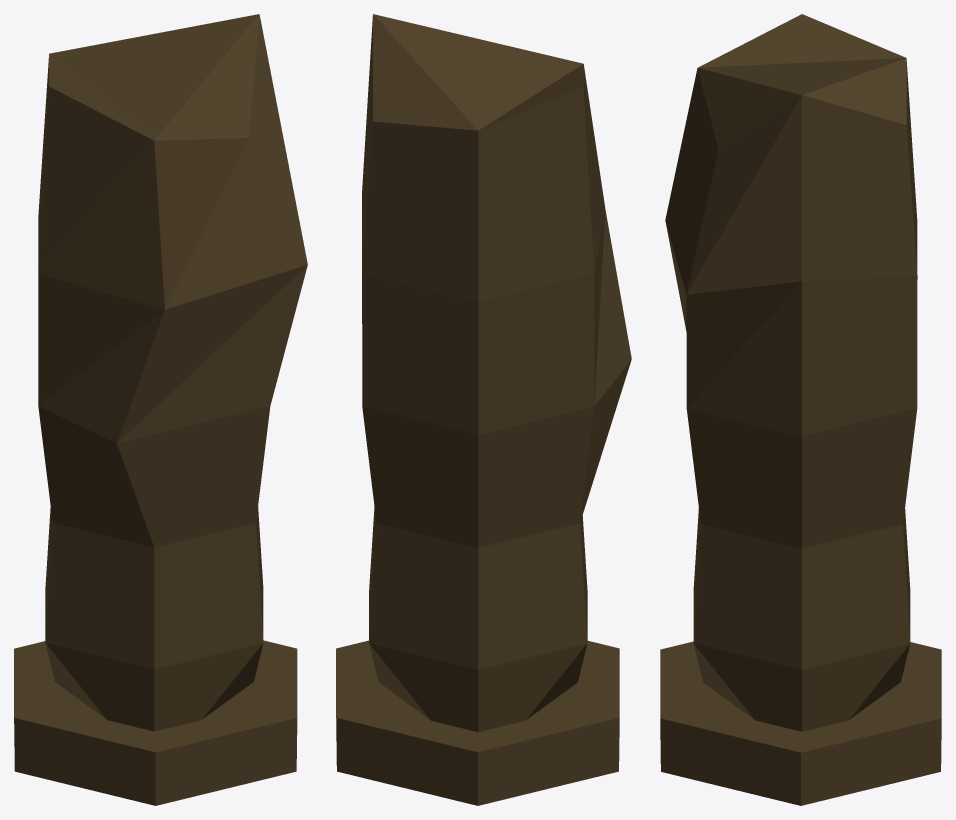
File: A_collumnhalf.FBX
3 renders of one model, left to right at view 1: azimuth 30°, elevation 25°; view 2: azimuth 150°, elevation 25°; view 3: azimuth 270°, elevation 25°, orthographic.
Parts seen in each view (by area): view 1: collumn; view 2: collumn; view 3: collumn.
Part boxes in pixels (bbox=[...]): collumn: bbox=[14, 14, 307, 805]; collumn: bbox=[336, 14, 631, 805]; collumn: bbox=[660, 14, 941, 805].
Size of the model in its own units: 89.98 by 212 by 77.92.
